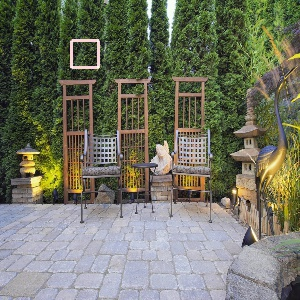square: (70, 38, 100, 70)
